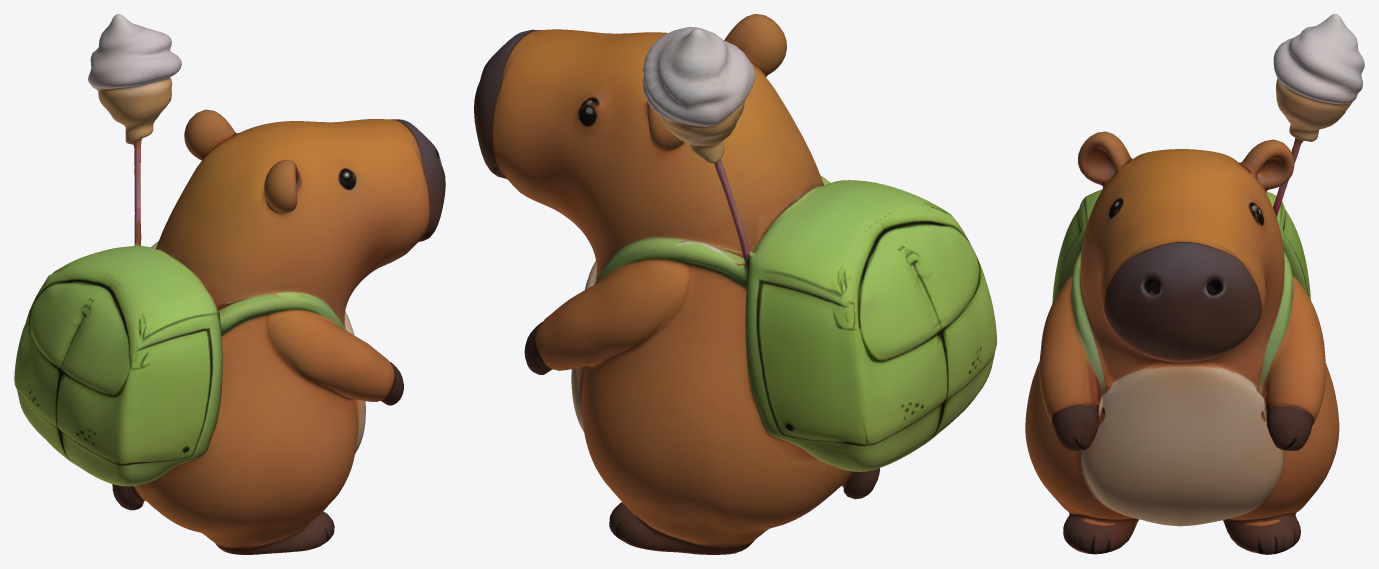
File: tripo-capybara.fbx
3 views of the same model, side by side, from view 1: azimuth 30°, elevation 25°; view 2: azimuth 150°, elevation 25°; view 3: azimuth 270°, elevation 25° (orthographic). The views are drawn at different scales.
Parts seen in each view (by area): view 1: tripo_node_7e56b5c7-68d9-4261-a11f-7b9ff0d80cf1; view 2: tripo_node_7e56b5c7-68d9-4261-a11f-7b9ff0d80cf1; view 3: tripo_node_7e56b5c7-68d9-4261-a11f-7b9ff0d80cf1.
Boxes of the visible parts, box(x1,y1,x2,y2) form: tripo_node_7e56b5c7-68d9-4261-a11f-7b9ff0d80cf1: box(14, 14, 445, 554); tripo_node_7e56b5c7-68d9-4261-a11f-7b9ff0d80cf1: box(474, 14, 996, 554); tripo_node_7e56b5c7-68d9-4261-a11f-7b9ff0d80cf1: box(1025, 14, 1364, 554).
Bounding box in the file's own units: 81.99 × 94.79 × 59.41.
1 material, 1 textured.
